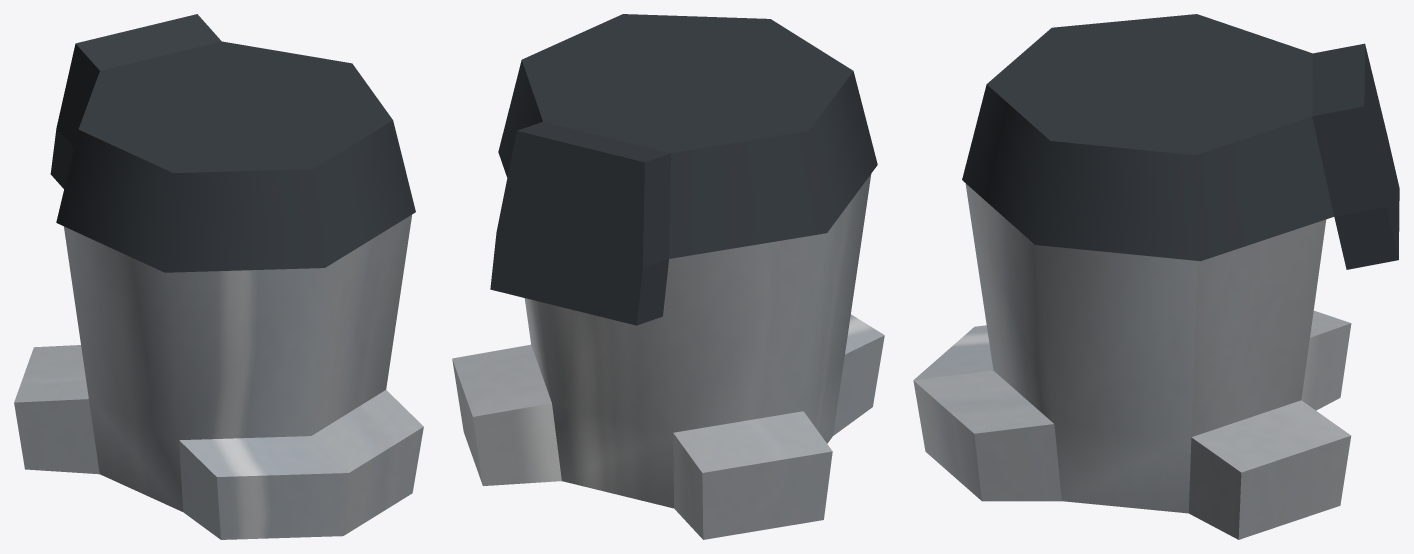
File: SM_Bin.fbx
3 views of the same model, side by side, from view 1: azimuth 30°, elevation 25°; view 2: azimuth 150°, elevation 25°; view 3: azimuth 270°, elevation 25° (orthographic). The views are drawn at different scales.
Parts seen in each view (by area): view 1: SM_Bin; view 2: SM_Bin; view 3: SM_Bin.
Part boxes in pixels (bbox=[...]): SM_Bin: bbox=[14, 14, 423, 539]; SM_Bin: bbox=[452, 14, 884, 539]; SM_Bin: bbox=[913, 14, 1399, 539].
Size of the model in its own units: 65.49 by 72.16 by 61.7.
1 material, 1 textured.
